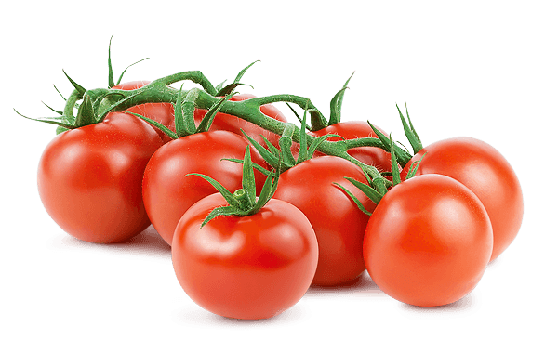tomato: (357, 173, 503, 324), (32, 98, 169, 255), (163, 190, 321, 324)
